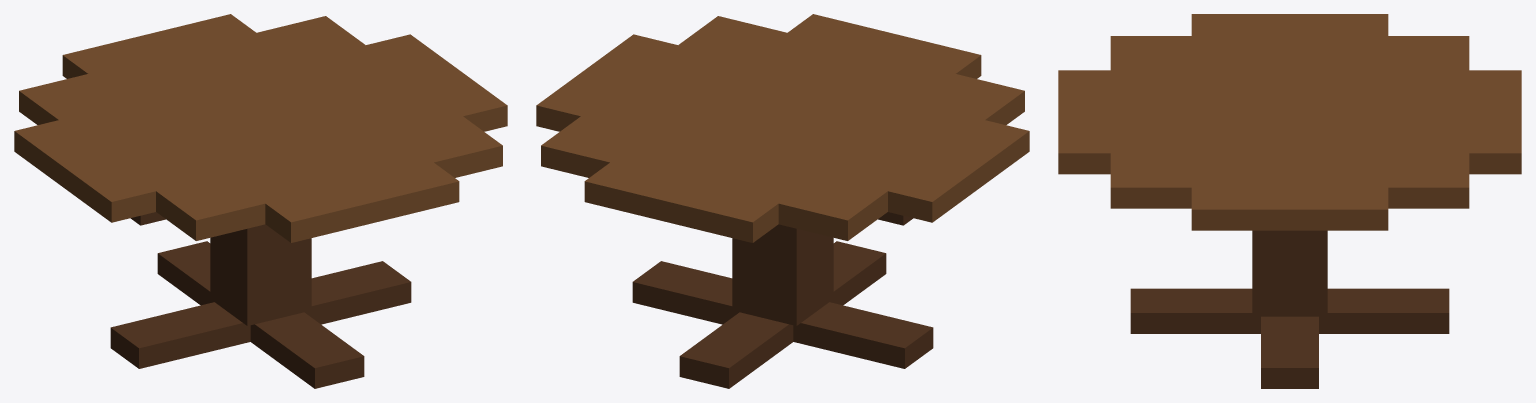
The model's file is tv-round-table.glb.
3 renders of one model, left to right at view 1: azimuth 30°, elevation 25°; view 2: azimuth 150°, elevation 25°; view 3: azimuth 270°, elevation 25°, orthographic.
Parts seen in each view (by area): view 1: box-prop; view 2: box-prop; view 3: box-prop.
Part boxes in pixels (bbox=[...]): box-prop: bbox=[14, 14, 507, 388]; box-prop: bbox=[536, 14, 1029, 388]; box-prop: bbox=[1058, 14, 1521, 388].
Size of the model in its own units: 1.6 by 0.8 by 1.6.
